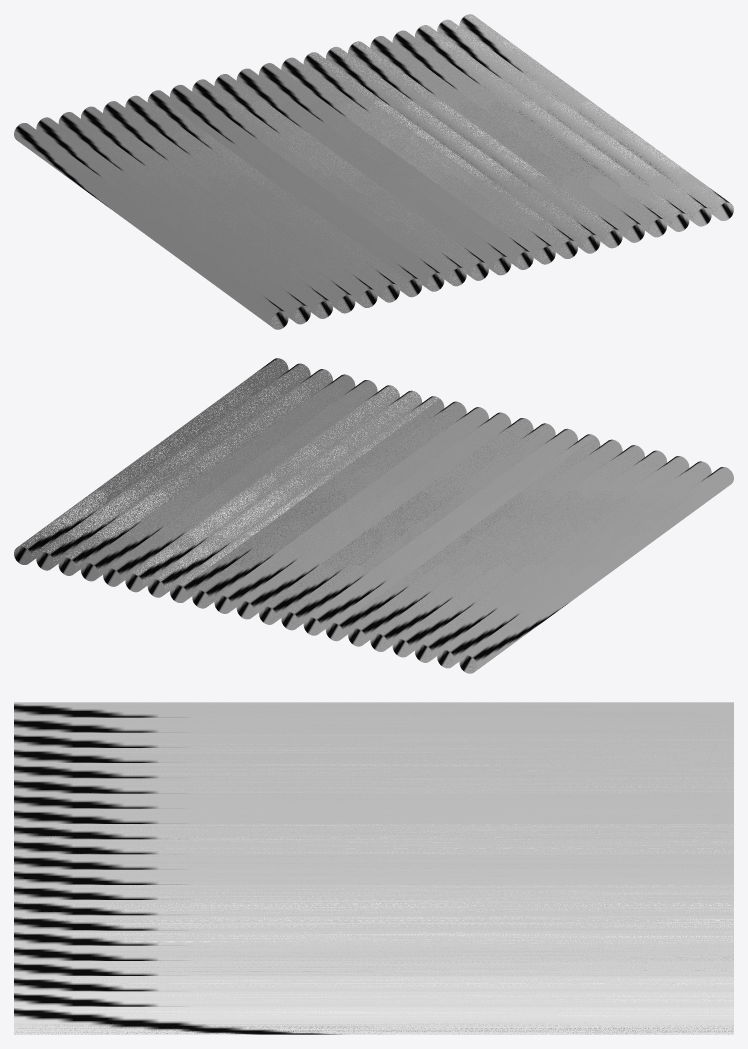
Rendered from quarter_inch_trial.obj.
3 renders of one model, top to bottom at view 1: azimuth 30°, elevation 25°; view 2: azimuth 150°, elevation 25°; view 3: azimuth 270°, elevation 25°, orthographic. The views are drawn at different scales.
Visible parts, largest first — view 1: None4, None2, None42, None30, None23, None32, None34, None36, None17, None31, None41, None44 (+9 smaller); view 2: None4, None2, None42, None30, None23, None32, None34, None36, None17, None31, None41, None44 (+9 smaller); view 3: None28, None36, None45, None42, None43, None31, None4, None2, None27, None44, None17, None5 (+9 smaller).
Part boxes in pixels (bbox=[...]): None4: bbox=[14, 123, 288, 329]; None2: bbox=[36, 117, 310, 324]; None42: bbox=[236, 68, 511, 275]; None30: bbox=[437, 19, 711, 226]; None23: bbox=[392, 30, 667, 237]; None32: bbox=[214, 74, 488, 280]; None34: bbox=[281, 57, 555, 264]; None36: bbox=[147, 90, 422, 297]; None17: bbox=[125, 95, 399, 302]; None31: bbox=[370, 36, 644, 242]; None41: bbox=[81, 106, 355, 313]; None44: bbox=[103, 101, 377, 307]; None4: bbox=[459, 467, 733, 673]; None2: bbox=[437, 461, 711, 668]; None42: bbox=[236, 412, 511, 619]; None30: bbox=[36, 363, 310, 570]; None23: bbox=[80, 374, 355, 581]; None32: bbox=[259, 418, 533, 624]; None34: bbox=[192, 401, 466, 608]; None36: bbox=[325, 434, 600, 641]; None17: bbox=[348, 439, 622, 646]; None31: bbox=[103, 380, 377, 586]; None41: bbox=[392, 450, 666, 657]; None44: bbox=[370, 445, 644, 651]; None28: bbox=[14, 1006, 733, 1034]; None36: bbox=[14, 793, 733, 808]; None45: bbox=[14, 808, 733, 823]; None42: bbox=[14, 854, 733, 869]; None43: bbox=[14, 869, 733, 884]; None31: bbox=[14, 945, 733, 960]; None4: bbox=[14, 702, 733, 717]; None2: bbox=[14, 717, 733, 732]; None27: bbox=[14, 732, 733, 747]; None44: bbox=[14, 763, 733, 778]; None17: bbox=[14, 778, 733, 793]; None5: bbox=[14, 824, 733, 839].
Bounding box in the file's own units: 845 × 31.75 × 813.
Materials: 1 (1 with a texture image).
